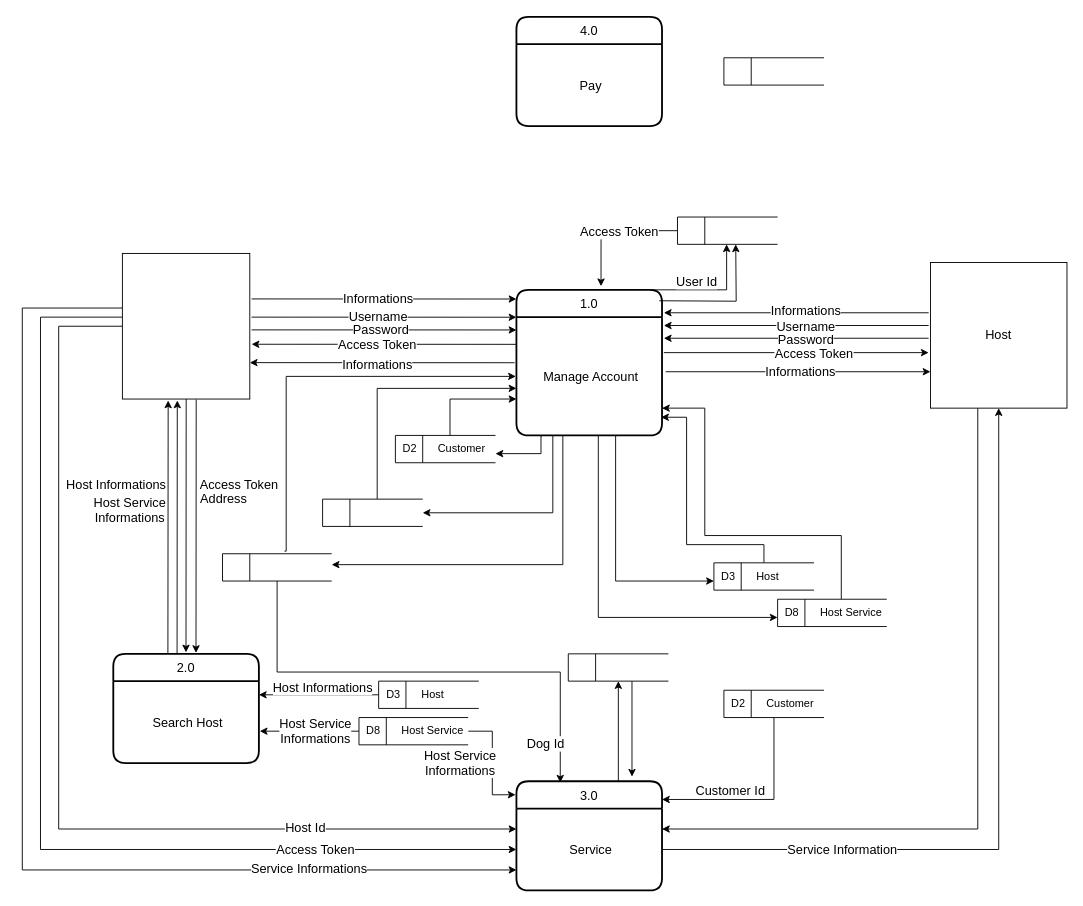
This 1083x906 diagram has some shape labels left out. Here are the shapes that lost their labels. From the top down, the centre of each, then its label:
At point (773, 71): "D5 Payment".
At point (727, 230): "D6 Token".
At point (185, 326): "Customer".
At point (372, 512): "D1 Account".
At point (277, 567): "D7 Dog".
At point (617, 667): "D4 Services".
